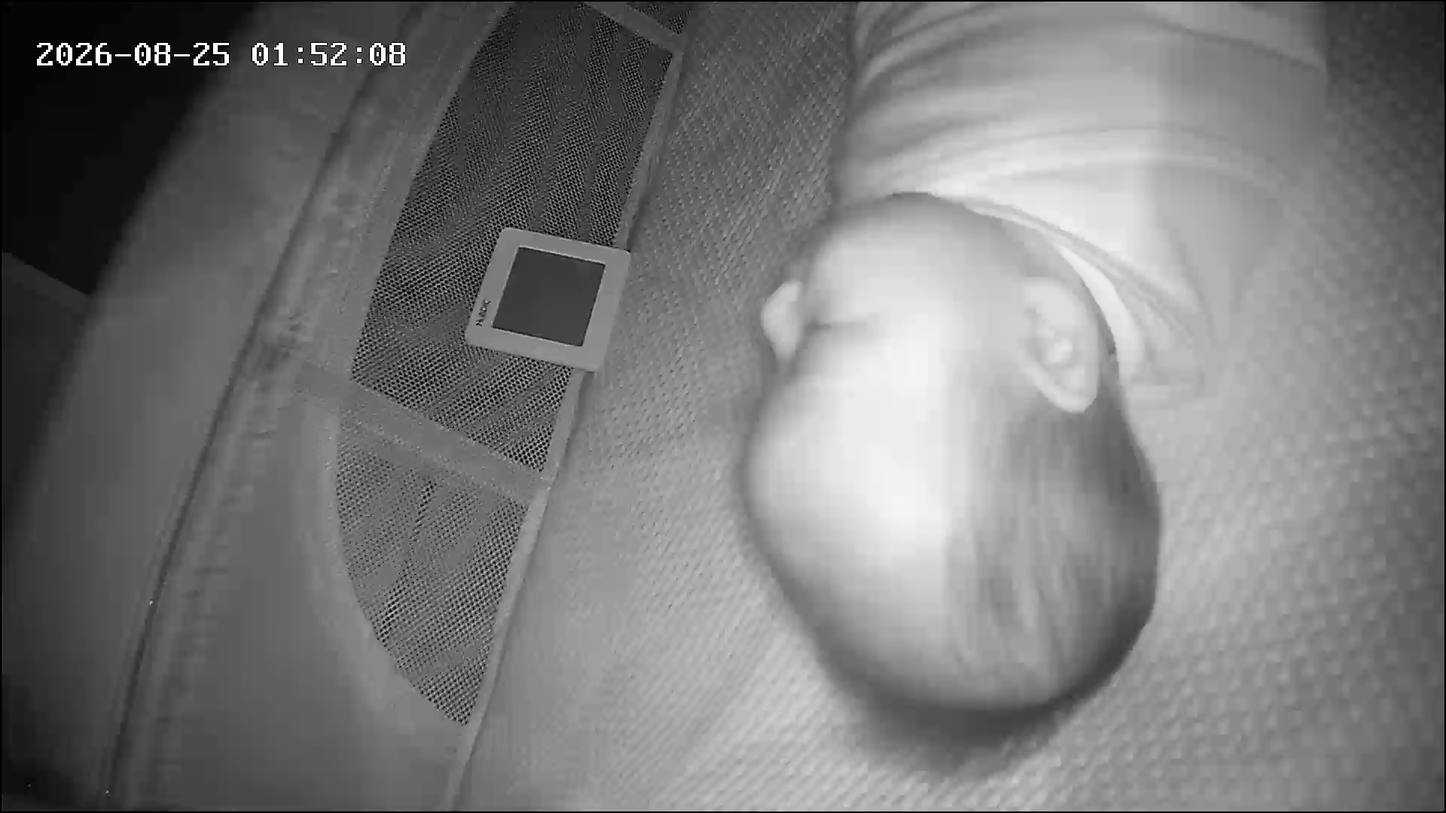baby: (712, 0, 1357, 747)
baby_face: (718, 190, 1174, 742)
